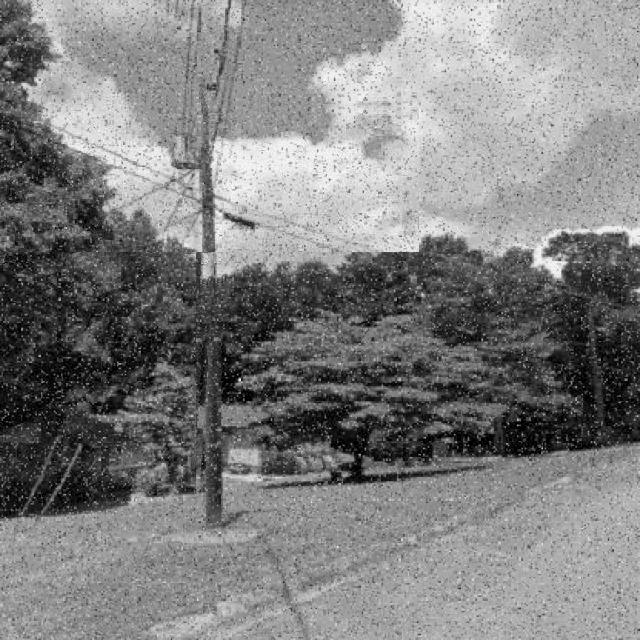pole: (196, 77, 208, 526)
transformer: (170, 121, 198, 164)
wire: (0, 93, 405, 252), (0, 114, 406, 248), (207, 0, 235, 144)
